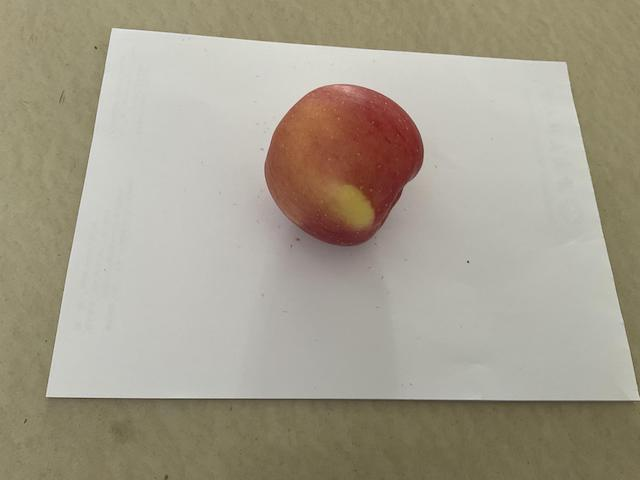apple: (257, 77, 428, 252)
